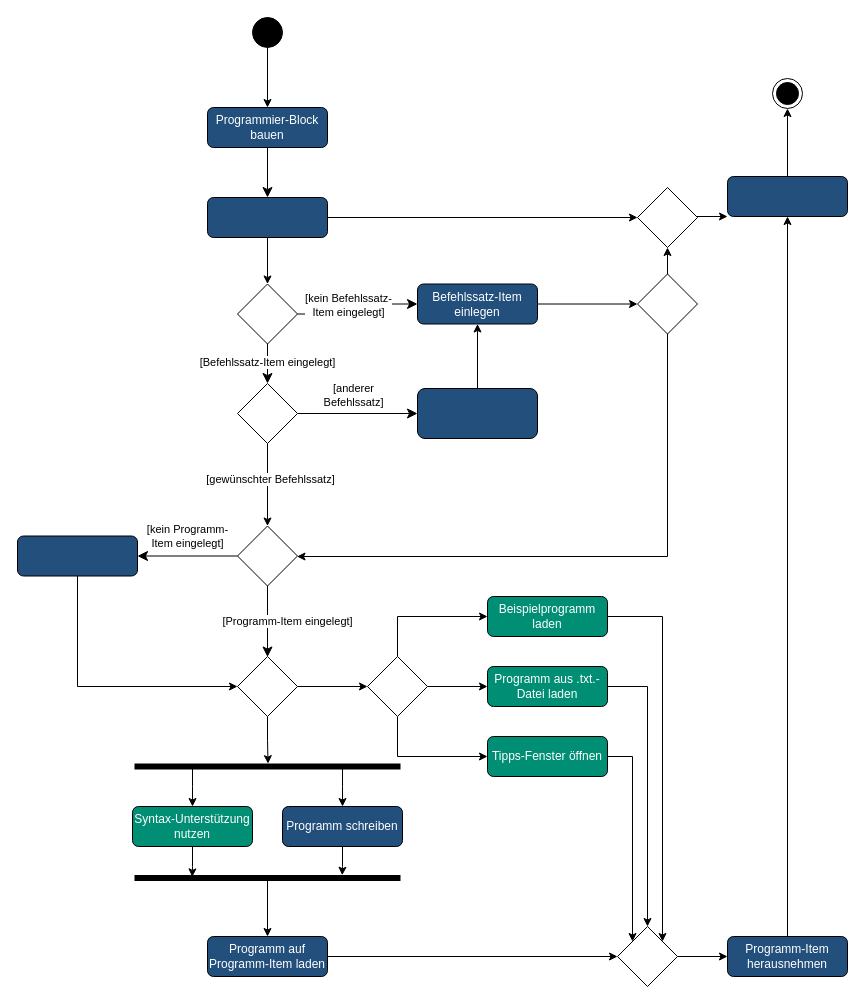
Some shapes in this 865 by 1004 pixel diagram are drawn without their labels. Each missing label, with the centre of its shape:
Aktuelles Befehlssatz-Item herausnehmen: the point at 477,413
GUI schließen: the point at 787,196
GUI öffnen: the point at 267,217
Programm-Item einlegen: the point at 77,555
